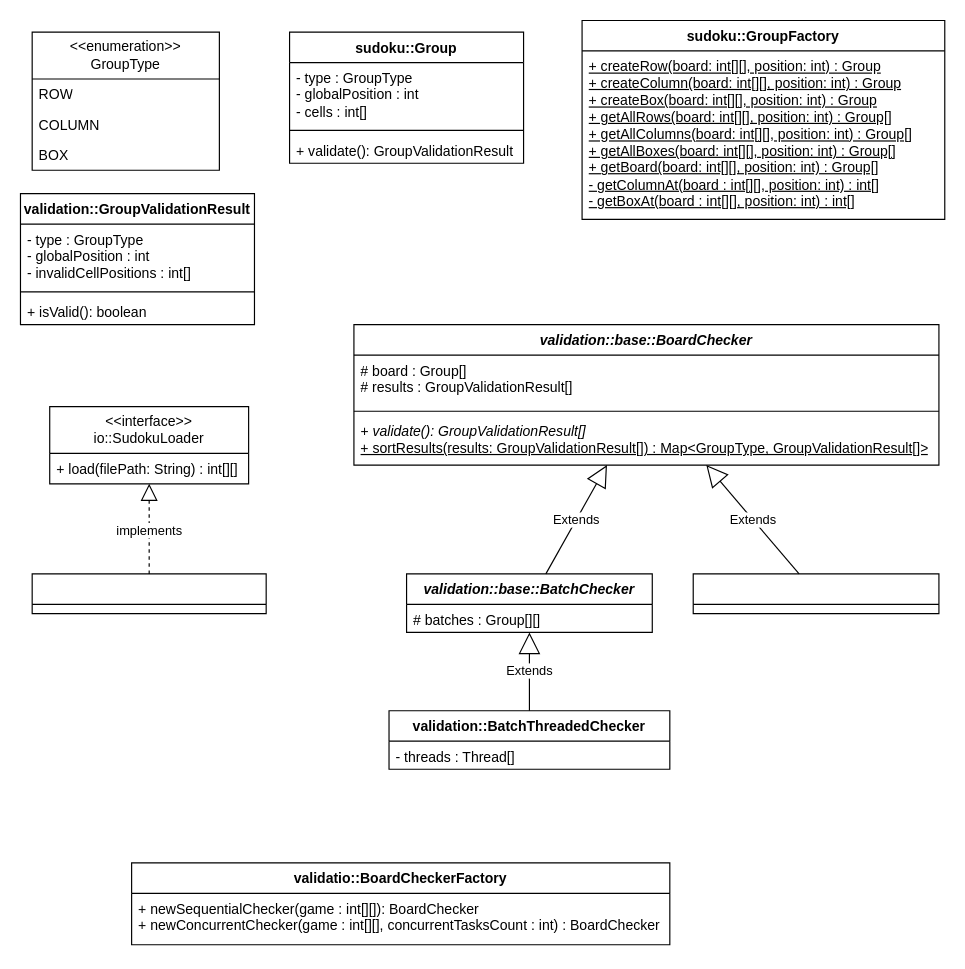
Some shapes in this 965 by 969 pixel diagram are drawn without their labels. The shapes that lost their labels are listed below. From the top down, each one's centre as x and y in pixels, then its label:
At (x=148, y=593): "io::CsvSudokuLoader".
At (x=815, y=593): "validation::SequentialChecker".
